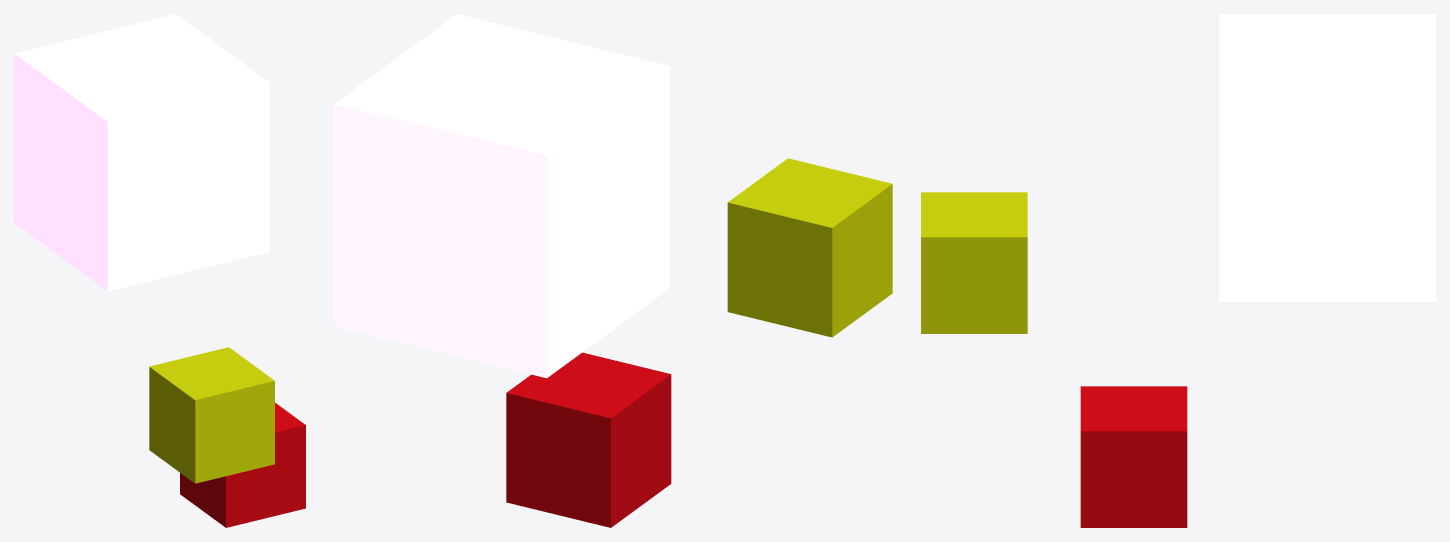
Rendered from 1lightsrc_colors.dae.
The picture shows the model from 3 angles, left to right: view 1: azimuth 30°, elevation 25°; view 2: azimuth 150°, elevation 25°; view 3: azimuth 270°, elevation 25°; orthographic projection. The views are drawn at different scales.
Parts seen in each view (by area): view 1: Cube, Cube.001, Cube.002; view 2: Cube, Cube.001, Cube.002; view 3: Cube, Cube.002, Cube.001.
Boxes of the visible parts, x1,y1,x2,y2 form: Cube: (14,14,269,291); Cube.001: (149,347,274,483); Cube.002: (180,403,305,527); Cube: (334,14,669,378); Cube.001: (727,158,892,337); Cube.002: (506,352,671,527); Cube: (1219,14,1435,301); Cube.002: (1080,386,1187,527); Cube.001: (921,192,1027,333).
Bounding box in the file's own units: 5.1 × 9.65 × 9.02.
